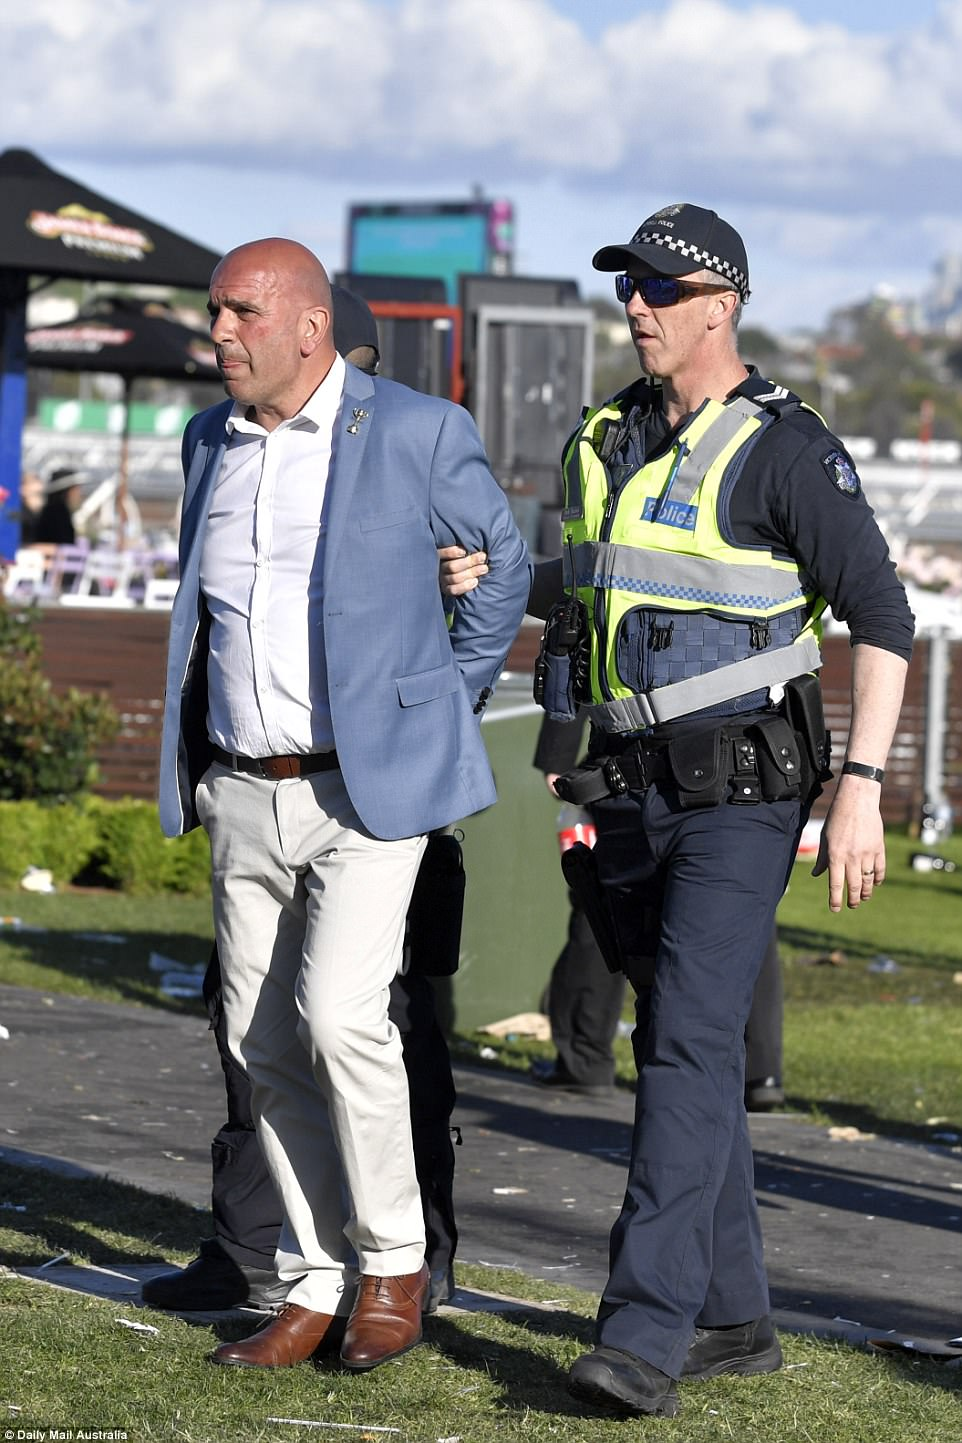Person: (561, 202, 915, 1409), (166, 236, 526, 1374)
